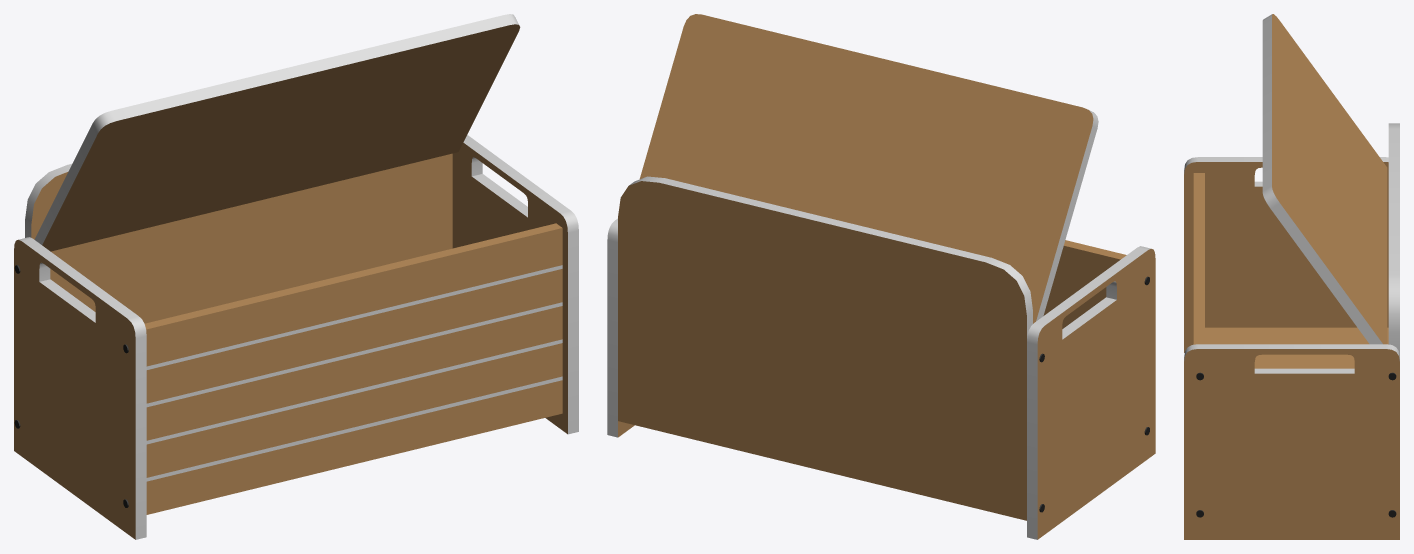
File: Caja_Juguetes.FBX
3 renders of one model, left to right at view 1: azimuth 30°, elevation 25°; view 2: azimuth 150°, elevation 25°; view 3: azimuth 270°, elevation 25°, orthographic. The views are drawn at different scales.
Visible parts, largest first — view 1: Box003, Tapa; view 2: Box003, Tapa; view 3: Box003, Tapa.
Boxes of the visible parts, x1=… form: Box003: x1=14, y1=135, x2=578, y2=539; Tapa: x1=34, y1=14, x2=520, y2=251; Box003: x1=607, y1=176, x2=1155, y2=539; Tapa: x1=639, y1=14, x2=1098, y2=323; Box003: x1=1184, y1=123, x2=1399, y2=539; Tapa: x1=1262, y1=14, x2=1387, y2=344.
Size of the model in its own units: 212 by 100 by 175.
